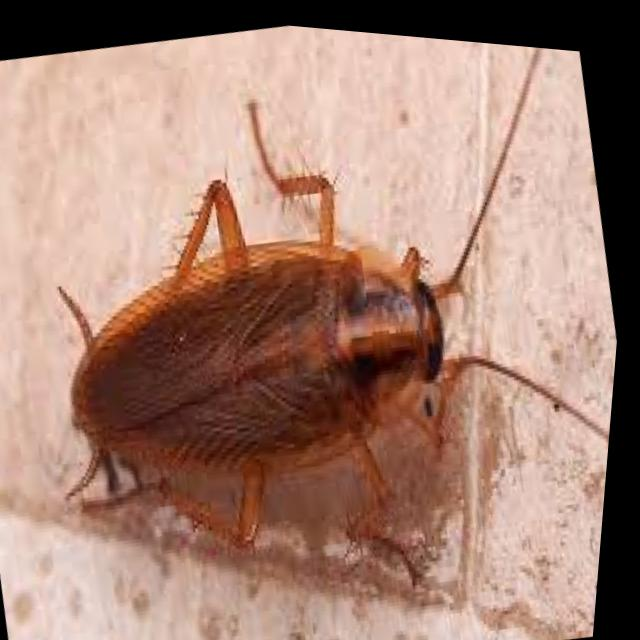Cockroach: (0, 0, 611, 640)
